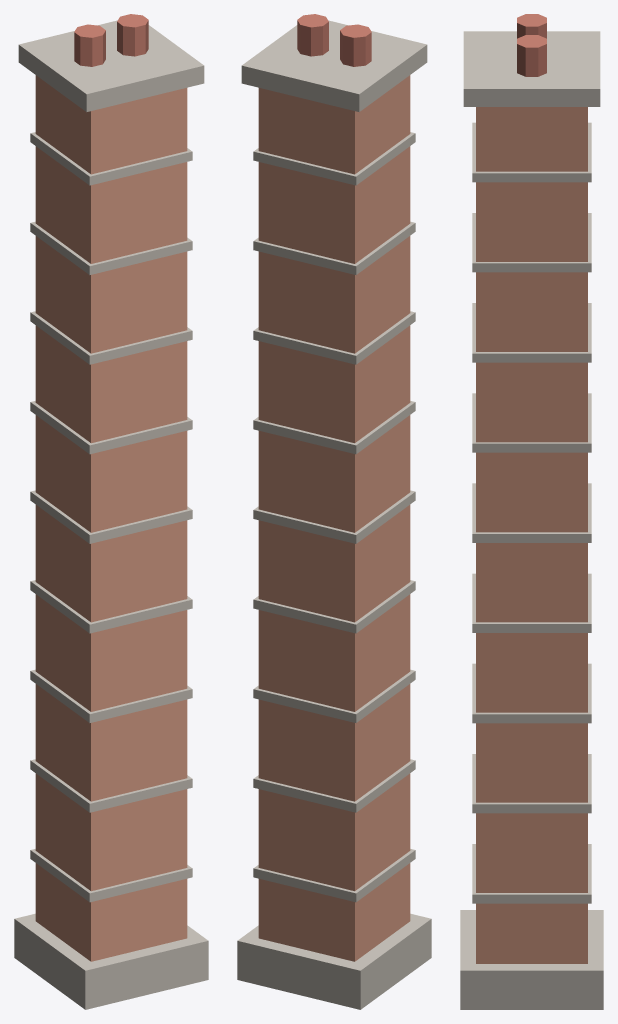
File: chimney_8_0.glb
The picture shows the model from 3 angles, left to right: view 1: azimuth 30°, elevation 25°; view 2: azimuth 150°, elevation 25°; view 3: azimuth 270°, elevation 25°; orthographic projection.
Parts seen in each view (by area): view 1: Player; view 2: Player; view 3: Player.
Boxes of the visible parts, x1,y1,x2,y2 form: Player: [14, 14, 208, 1009]; Player: [237, 14, 431, 1009]; Player: [460, 14, 603, 1009].
Bounding box in the file's own units: 1.15 × 8.42 × 1.15.
